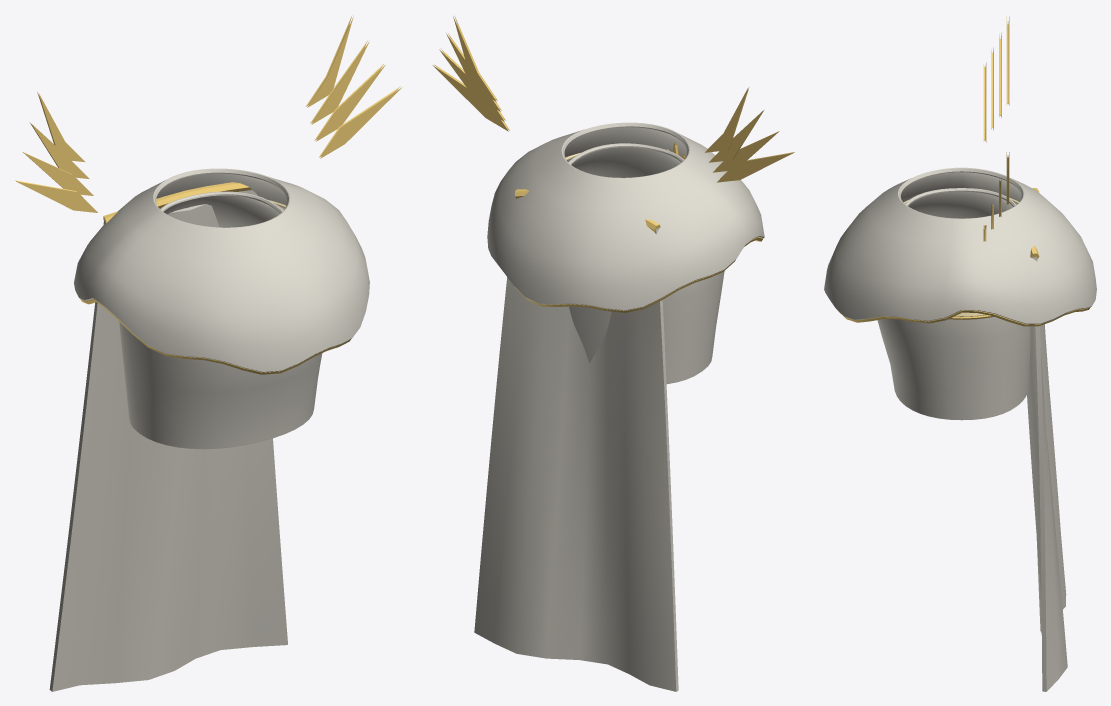
The model's file is asc_hierophant_armor.glb.
3 renders of one model, left to right at view 1: azimuth 30°, elevation 25°; view 2: azimuth 150°, elevation 25°; view 3: azimuth 270°, elevation 25°, orthographic. The views are drawn at different scales.
Parts seen in each view (by area): view 1: asc_hierophant_armor; view 2: asc_hierophant_armor; view 3: asc_hierophant_armor.
Part boxes in pixels (bbox=[...]): asc_hierophant_armor: bbox=[15, 16, 402, 691]; asc_hierophant_armor: bbox=[432, 15, 794, 691]; asc_hierophant_armor: bbox=[824, 16, 1096, 691].
Size of the model in its own units: 1.03 by 1.61 by 0.7093.
